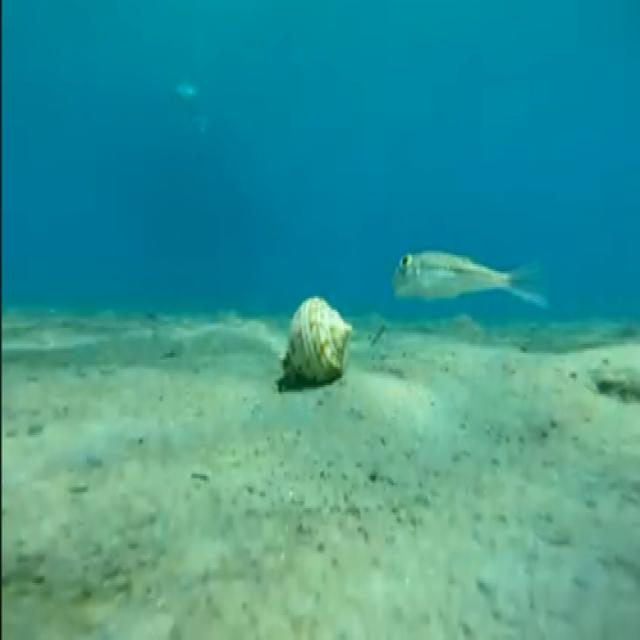Balik: (393, 251, 547, 307)
